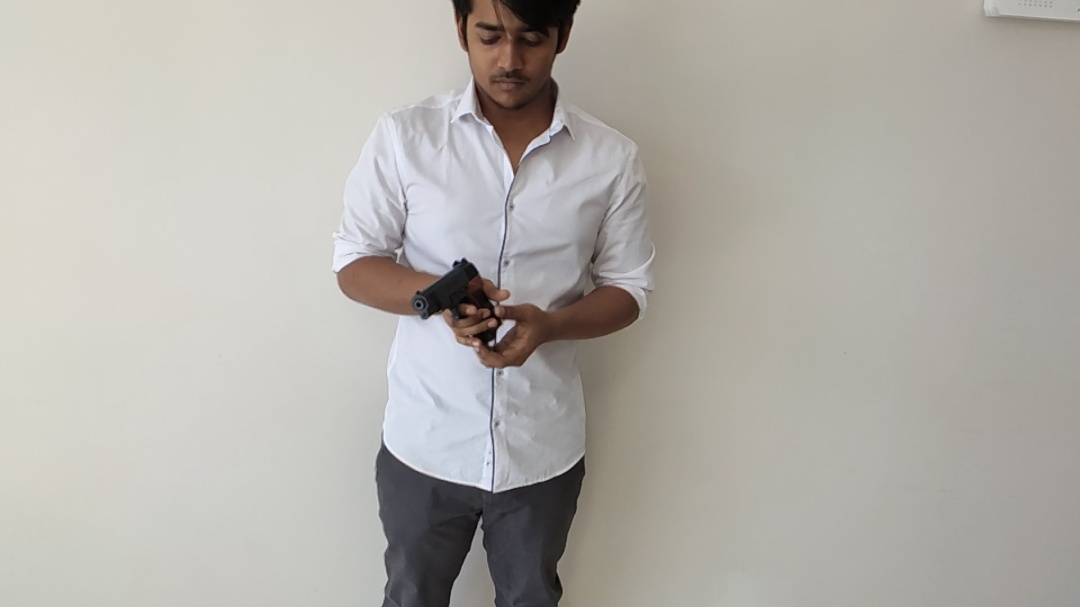gun: (412, 257, 498, 332)
